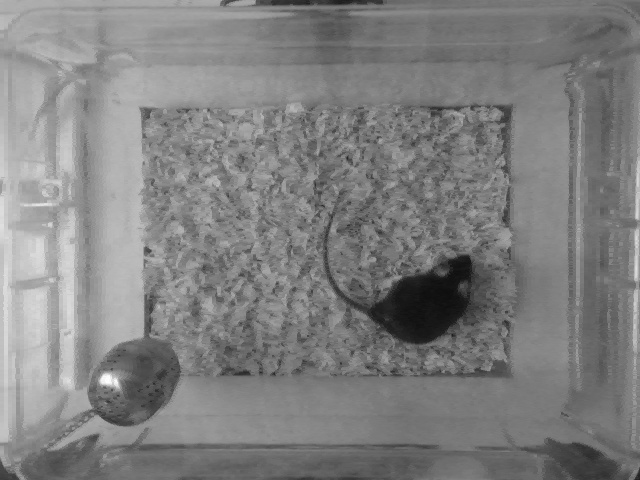mice: (319, 189, 475, 347)
